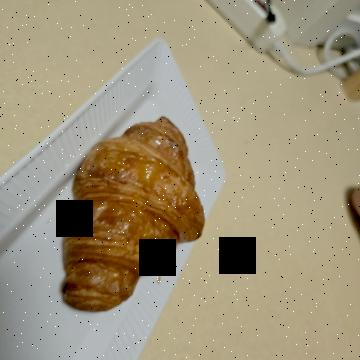croissant: (105, 139, 342, 309)
